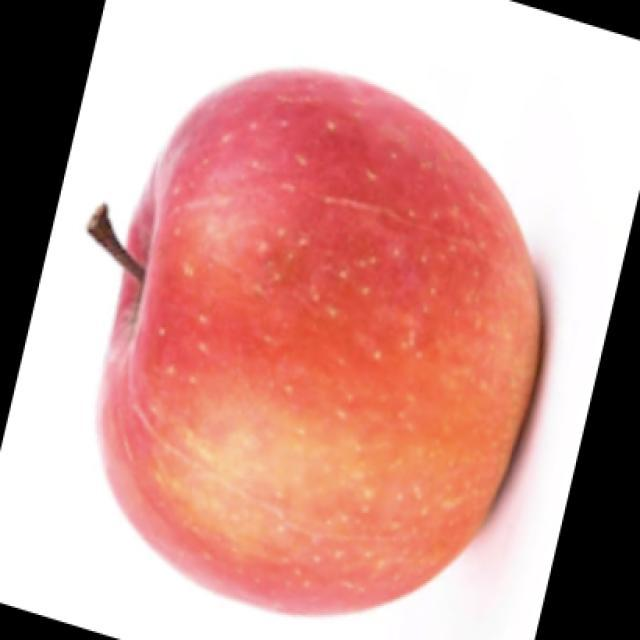Apple: (86, 66, 545, 616)
